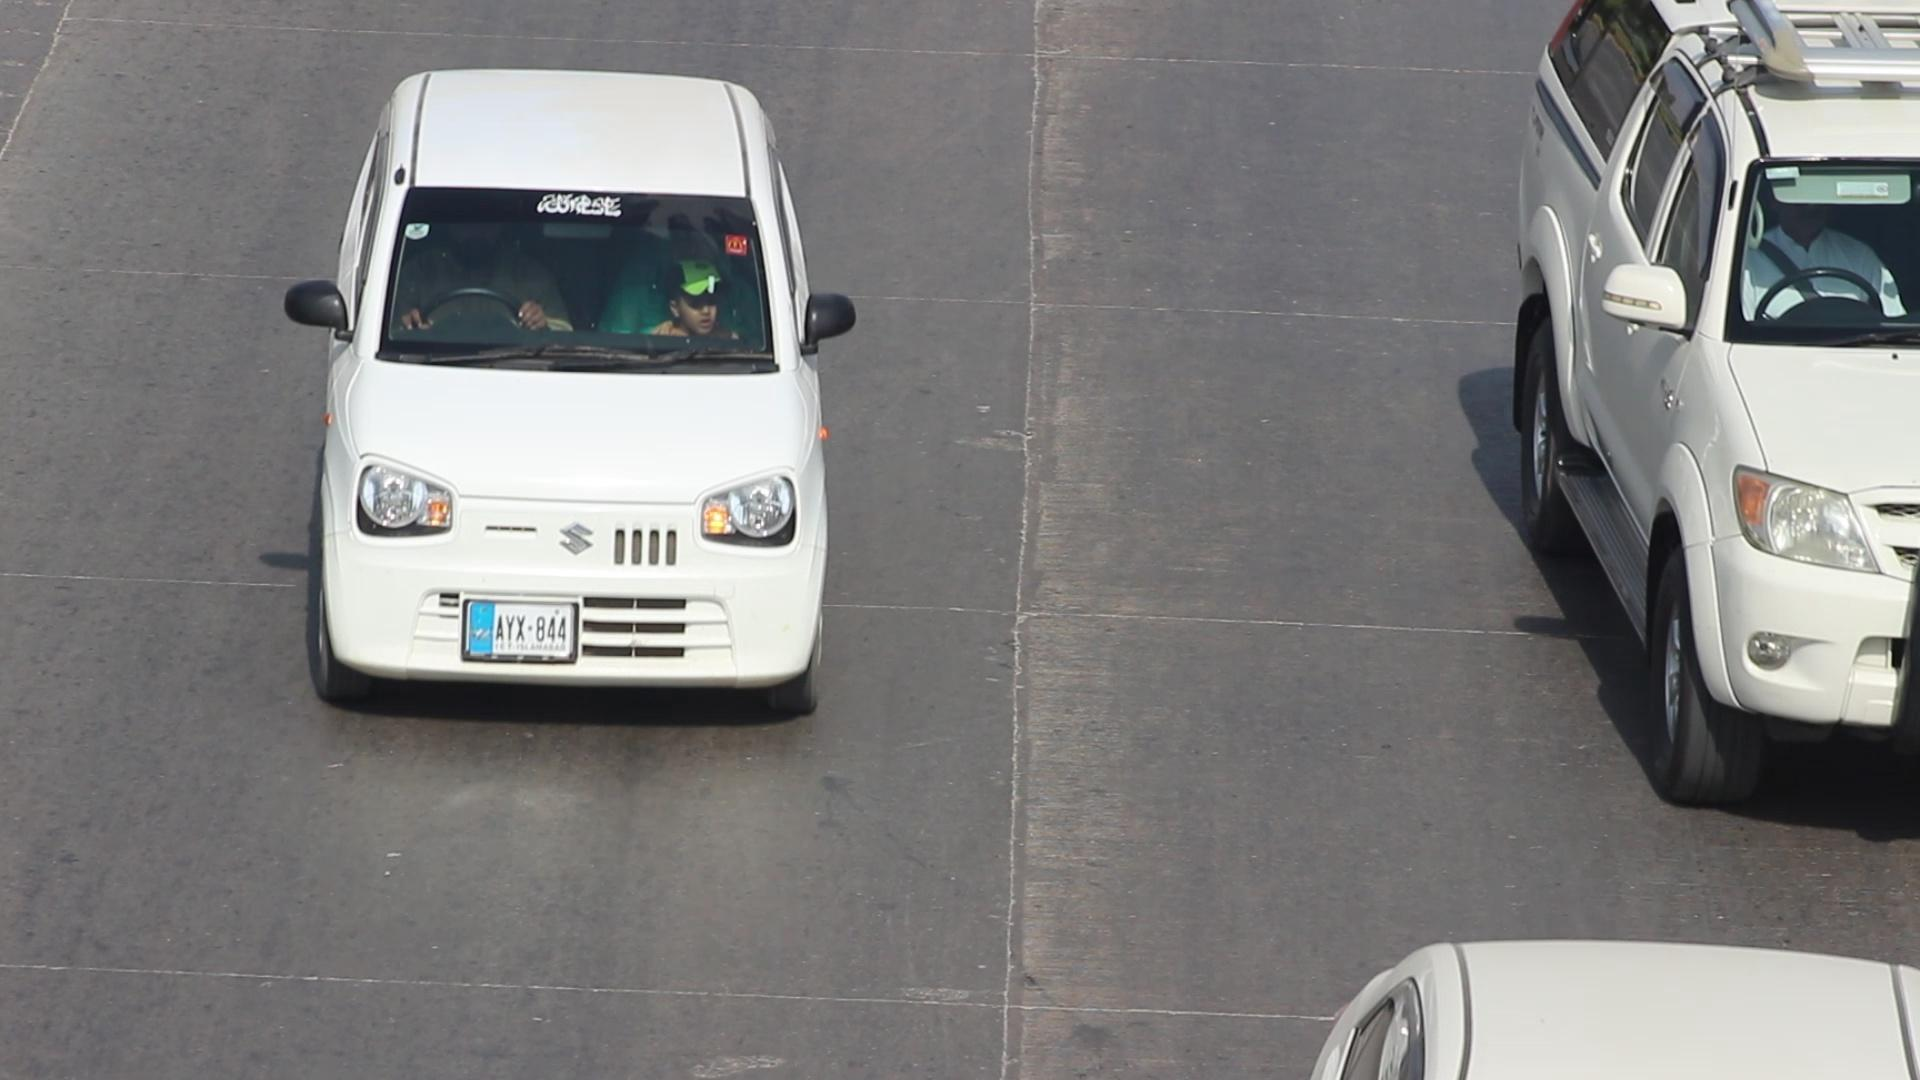windshield: (355, 177, 785, 400)
